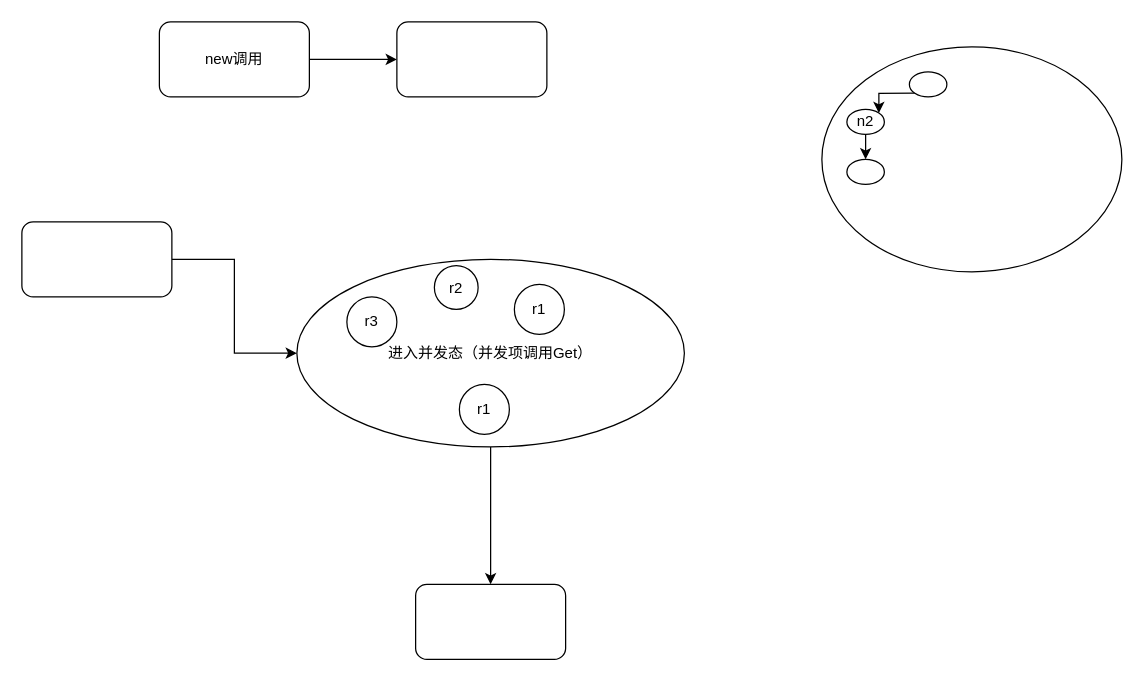
Image size: 1144x681. Some labels were removed from this diagram. The shapes that lost their labels are listed below. From the top down, each one's centre as x and y in pixels, then its label:
point 471,59: 并发执行memo.server
point 927,84: n1
point 865,171: n3
point 96,259: URLS
